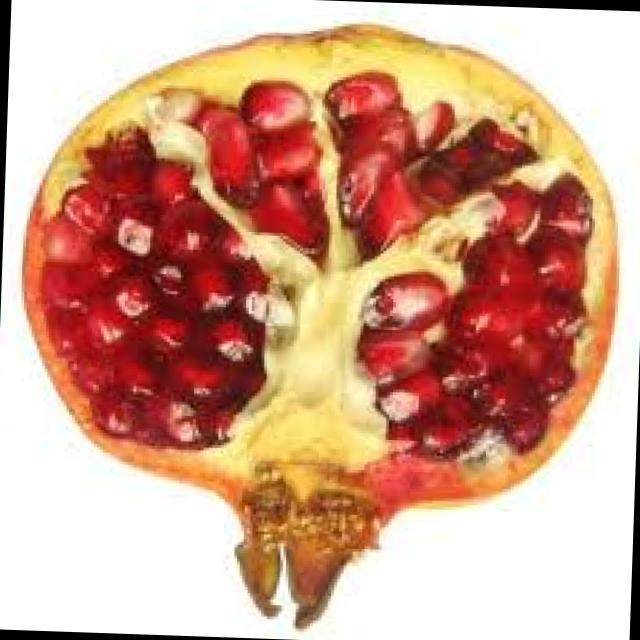Pomegranate: (9, 15, 640, 640)
